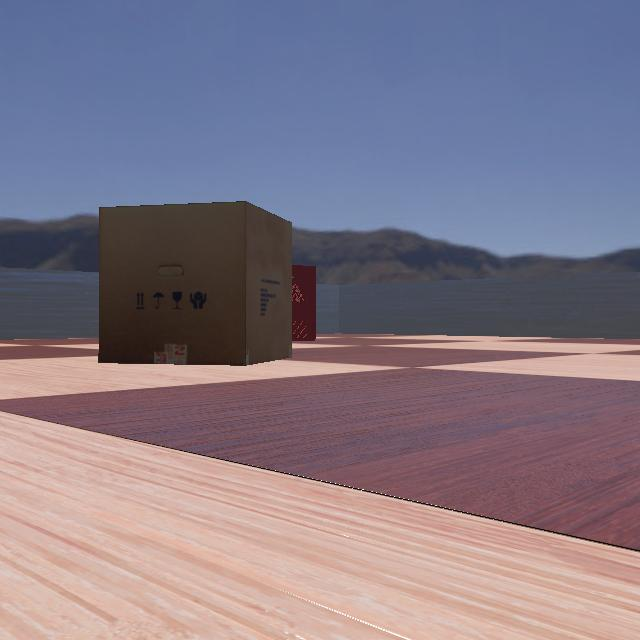cardboard-box: (85, 200, 293, 366)
